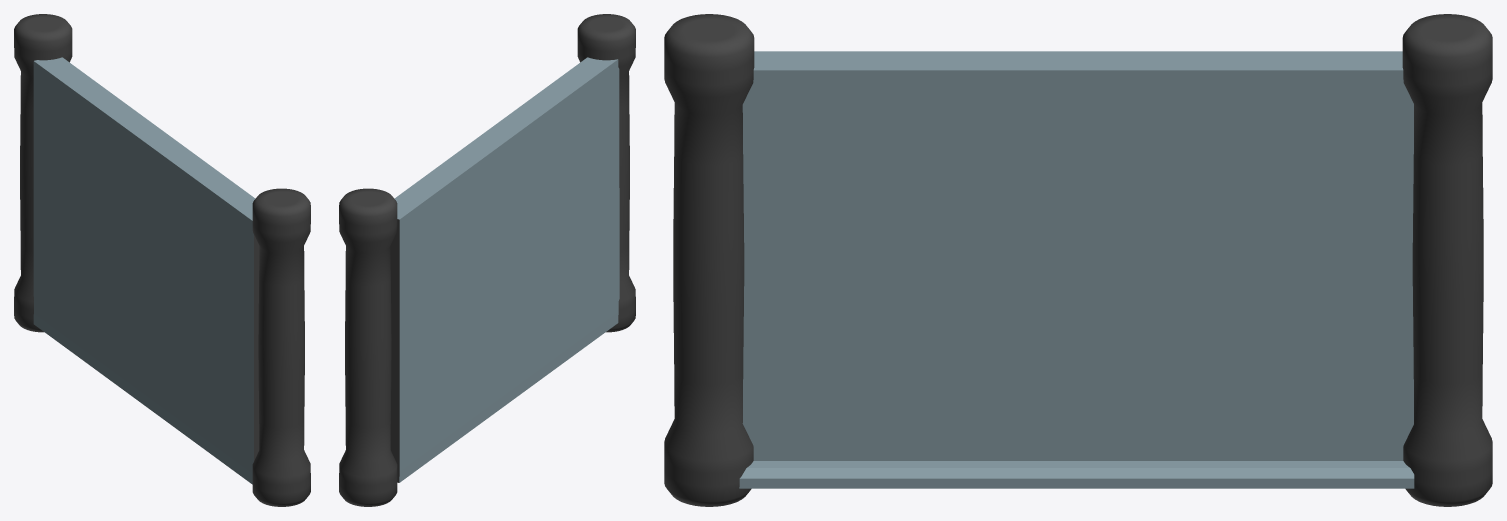
The model's file is medium wall line 2 pillars.fbx.
3 views of the same model, side by side, from view 1: azimuth 30°, elevation 25°; view 2: azimuth 150°, elevation 25°; view 3: azimuth 270°, elevation 25° (orthographic). The views are drawn at different scales.
Parts seen in each view (by area): view 1: line_wall_medium_2_pillar; view 2: line_wall_medium_2_pillar; view 3: line_wall_medium_2_pillar.
Part boxes in pixels (box(x1,y1,x2,y2)): line_wall_medium_2_pillar: box(14, 14, 310, 506); line_wall_medium_2_pillar: box(339, 14, 635, 506); line_wall_medium_2_pillar: box(664, 14, 1492, 506).
Size of the model in its own units: 157 by 881 by 1438.
